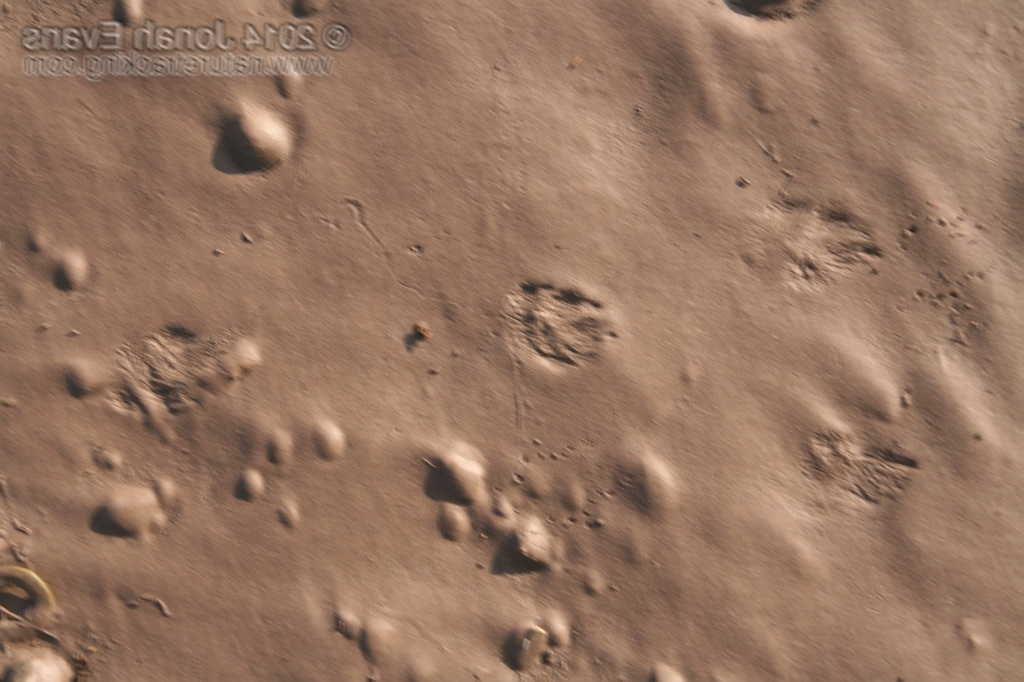rabbit: (474, 270, 648, 381)
